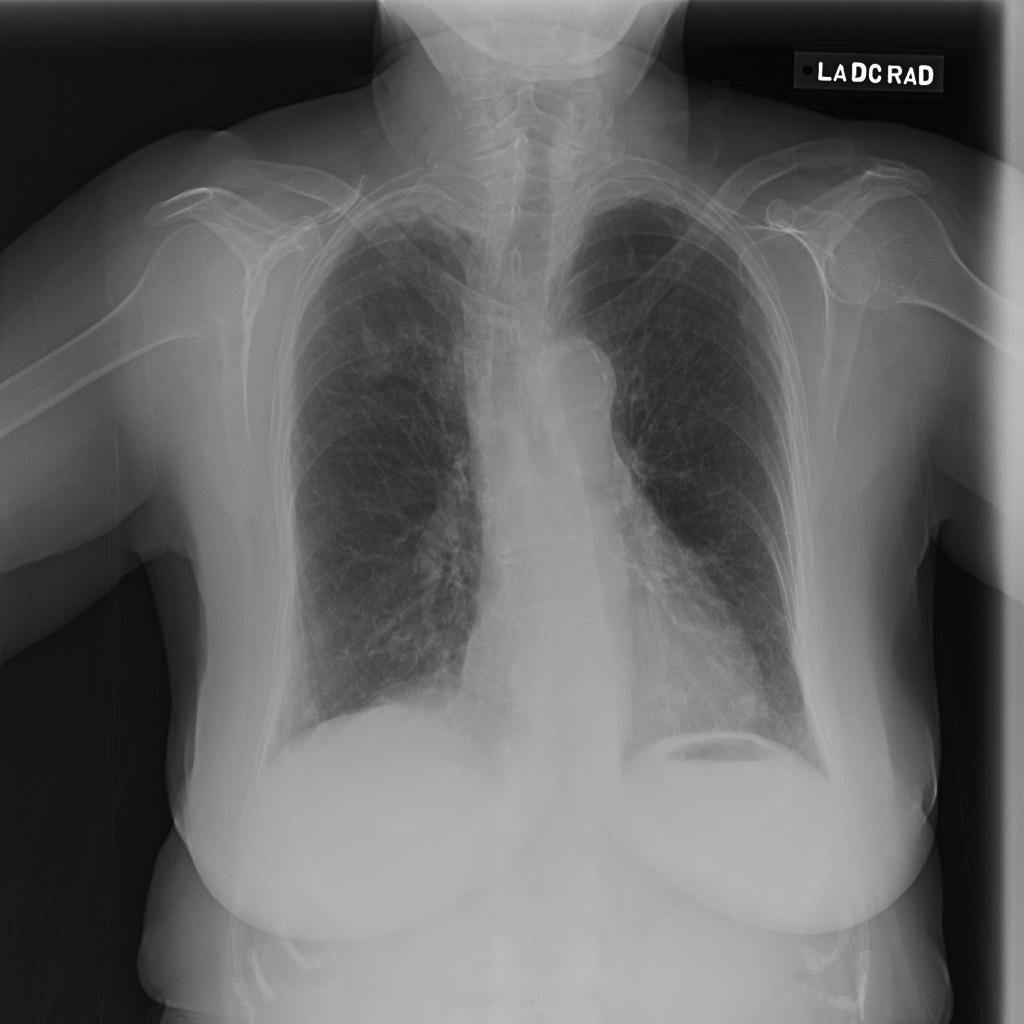Nodule: (186, 157, 209, 192)
